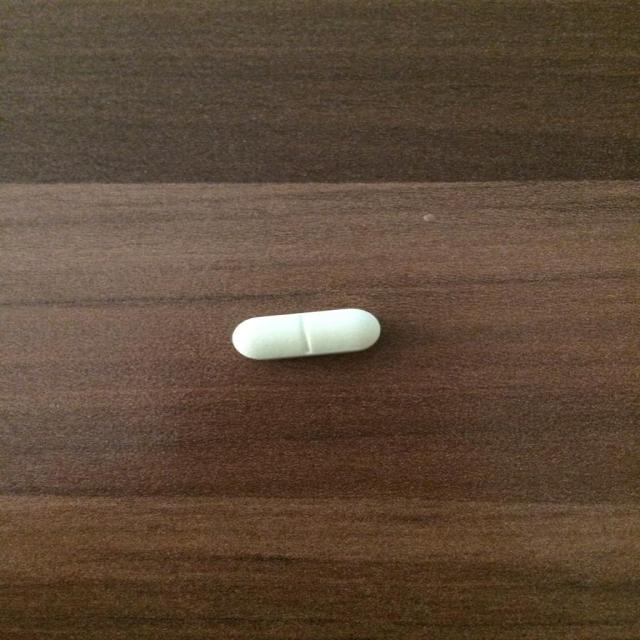pills: (222, 298, 391, 366)
